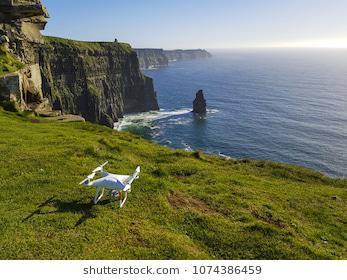drone: (74, 156, 150, 212)
